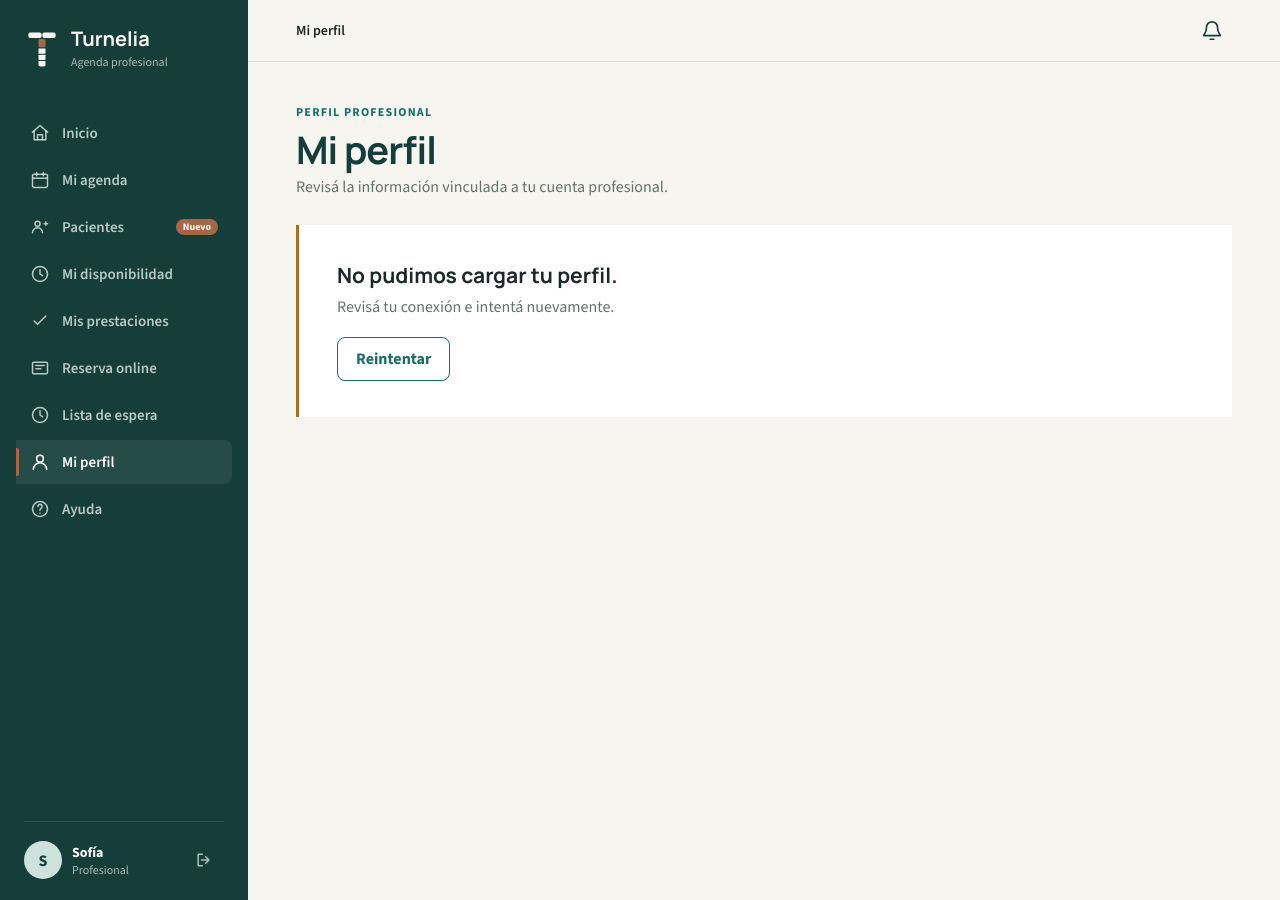
Test: perfil profesional Salud Humana Signature › muestra error global y permite reintentar el perfil
Check: the message shows "No pudimos cargar tu perfil.", box [337,261,618,289]
Click the button "Reintentar".
click(394, 359)  # box [337,337,450,381]
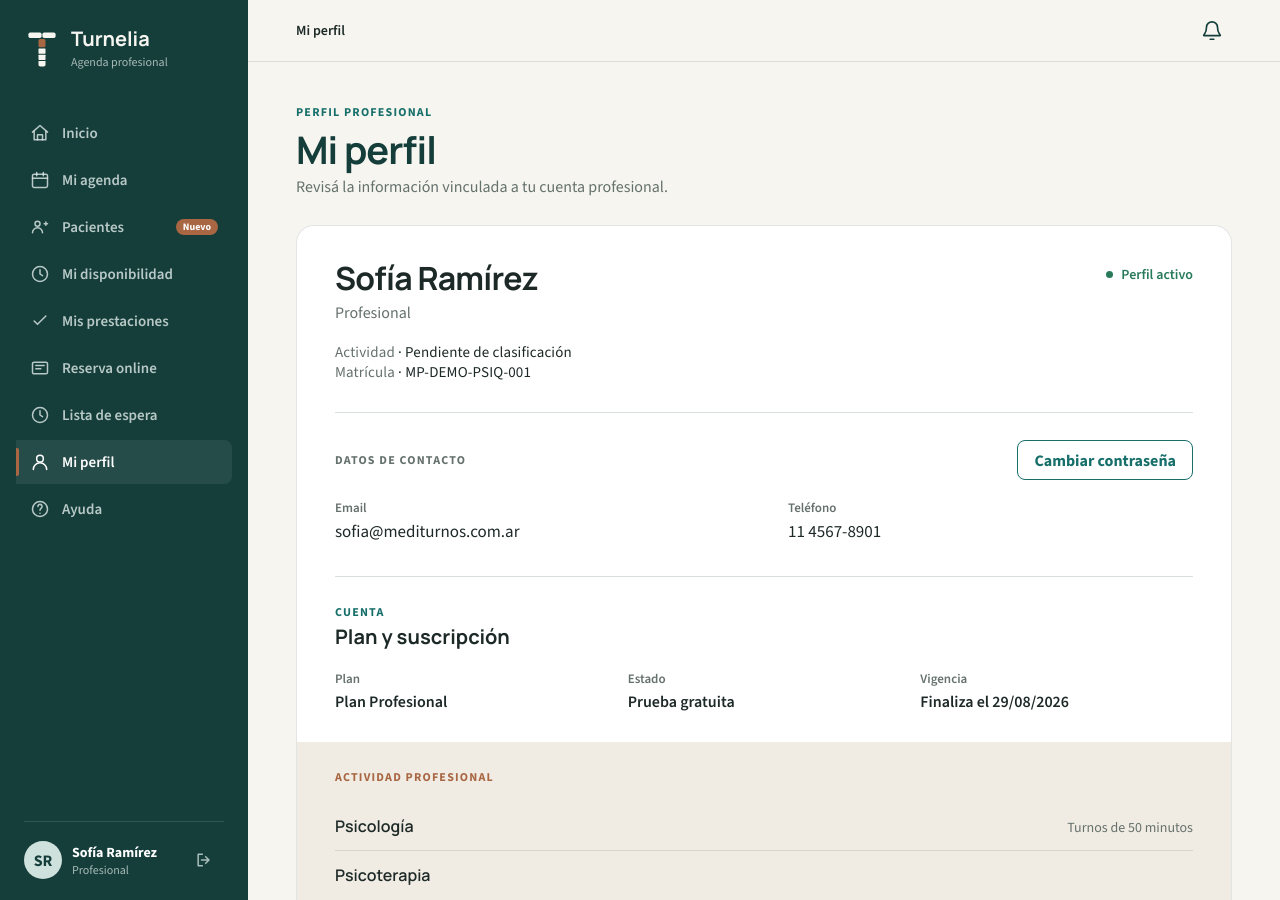
Check: the heading "Sofía Ramírez" is shown, box [335,256,538,300]
